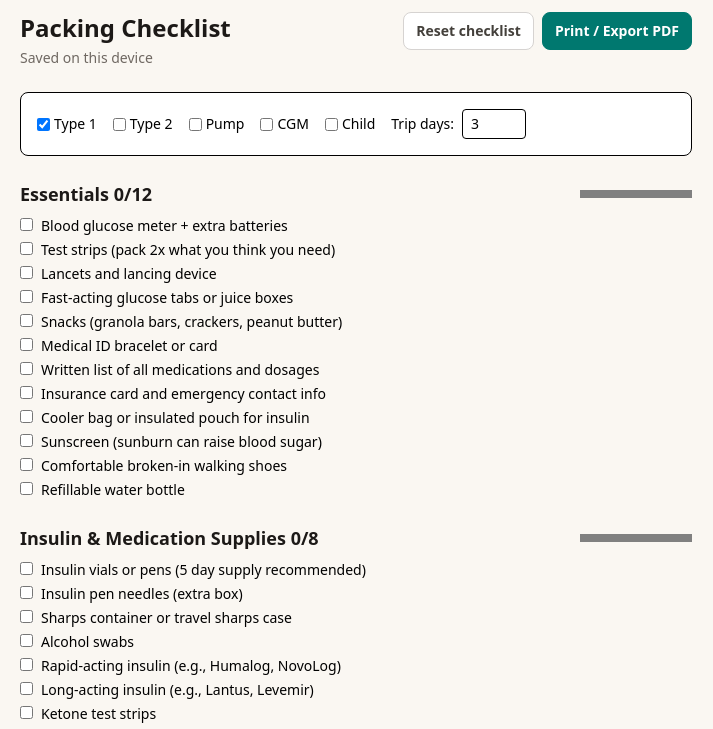
Test: PackingList › persists progress per selected profile and exposes reset/print controls
Expected: the text "Saved on this device" is shown, [20,48,153,67]
Expected: the heading "Essentials 0/12" is shown, [20,180,152,208]
Click the checkbox labelled "Blood glucose meter + extra batteries" at point(26, 224), box [20,218,33,231]
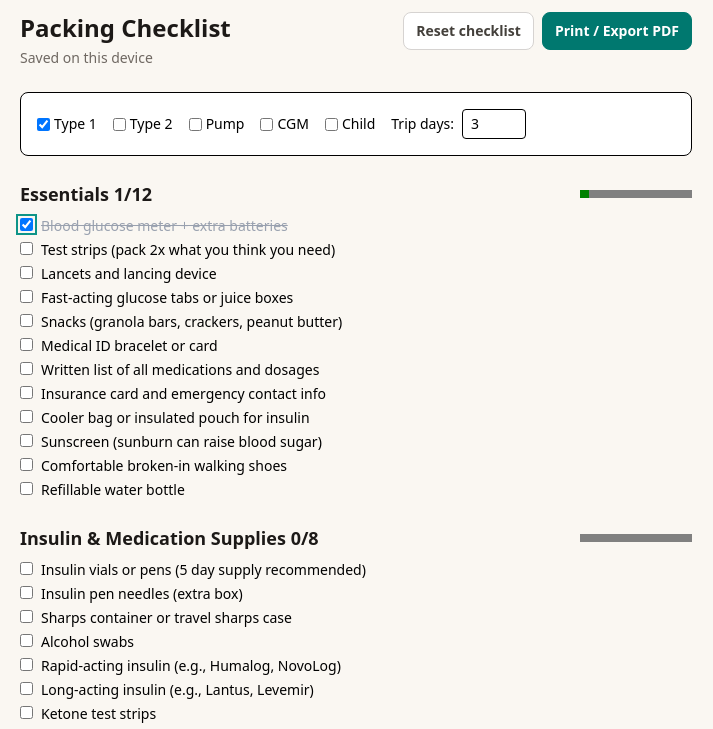
Now the heading "Essentials 1/12" is shown, box [20,180,152,208]
Click the checkbox labelled "Child" at point(331, 124), box [325,118,338,130]
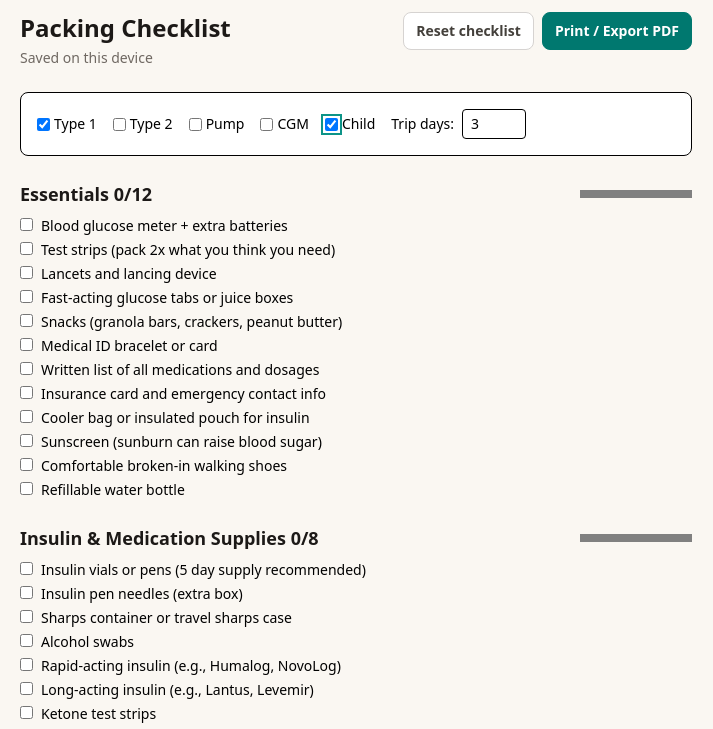
Now the heading "Essentials 0/12" is shown, box [20,180,152,208]
Click the checkbox labelled "Blood glucose meter + extra batteries" at point(26, 224), box [20,218,33,231]
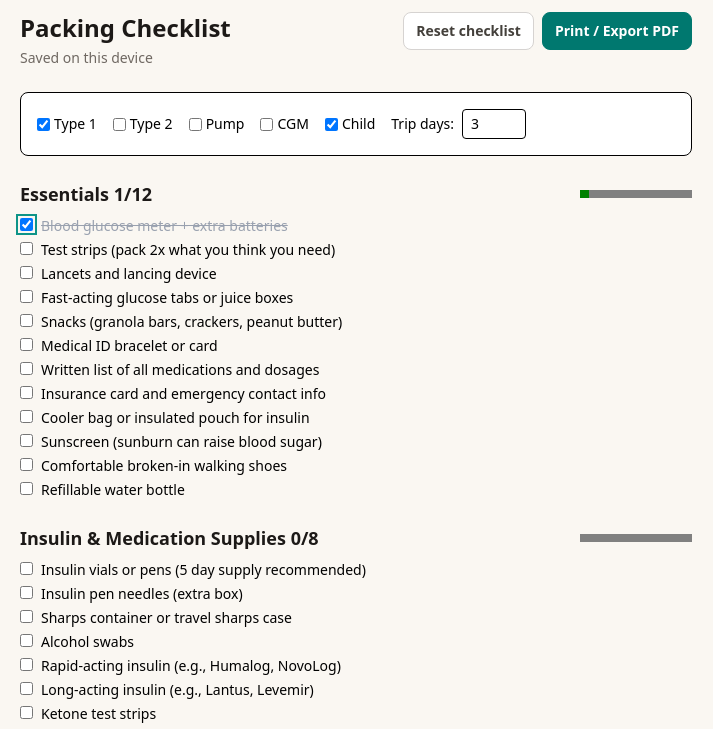
Now the heading "Essentials 1/12" is shown, box [20,180,152,208]
Click the button "Print / Export PDF" at point(617, 31), box [542,12,692,50]
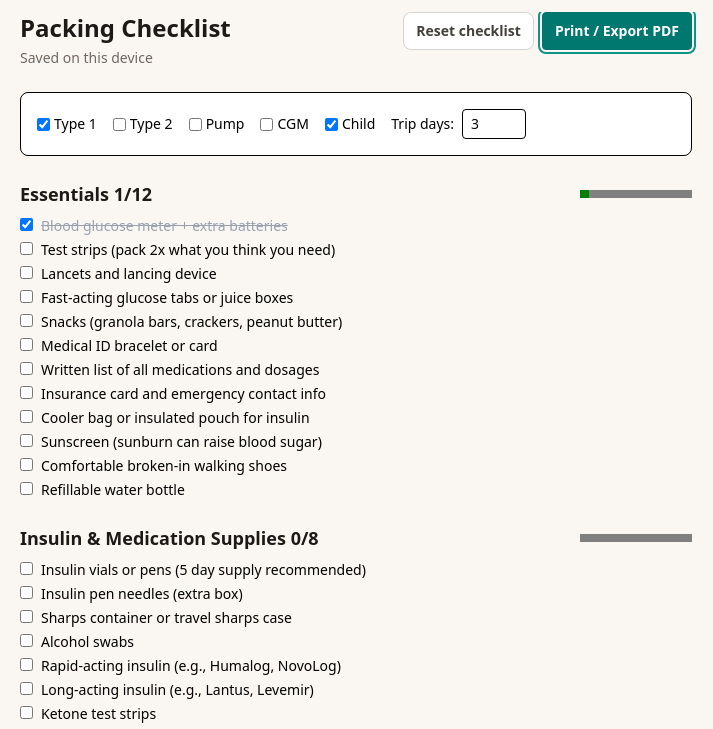
Click the button "Reset checklist" at point(469, 31), box [403,12,534,50]
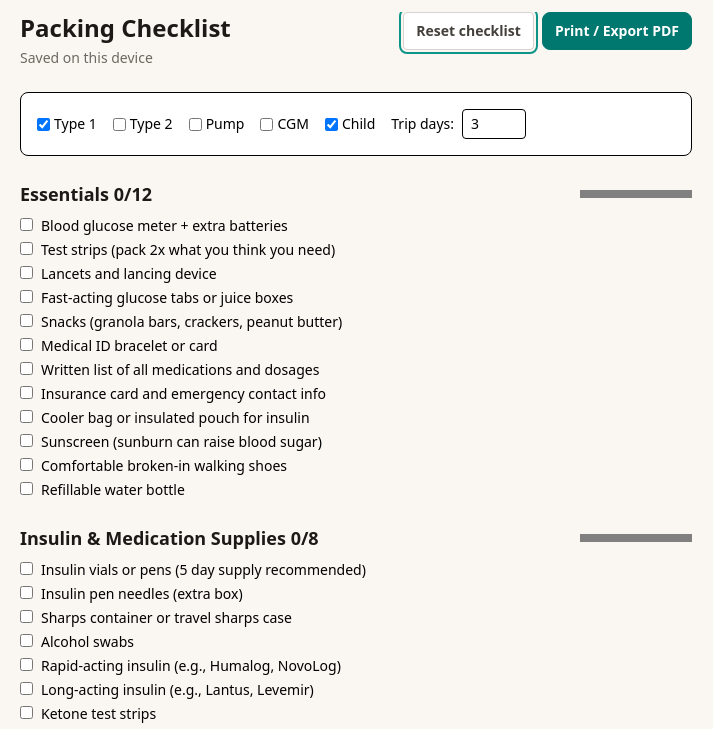
Now the heading "Essentials 0/12" is shown, box [20,180,152,208]
